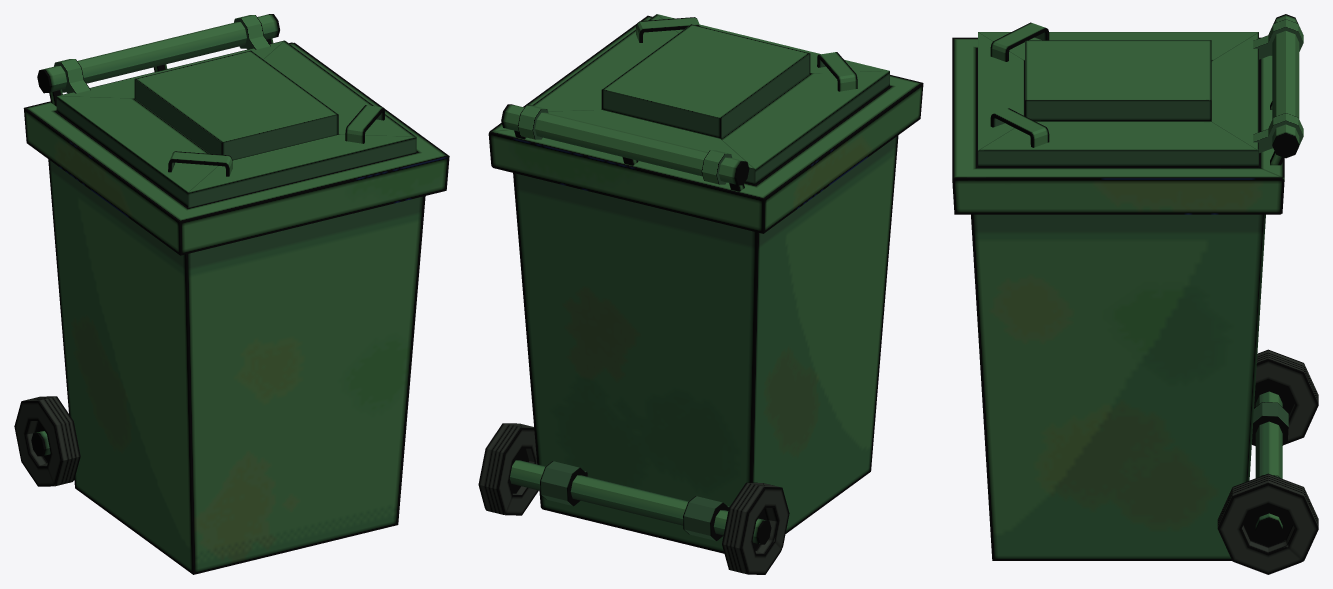
File: Prop_Contenedor.fbx
The picture shows the model from 3 angles, left to right: view 1: azimuth 30°, elevation 25°; view 2: azimuth 150°, elevation 25°; view 3: azimuth 270°, elevation 25°; orthographic projection. The views are drawn at different scales.
Visible parts, largest first — view 1: Cylinder.009, Cylinder.015; view 2: Cylinder.009, Cylinder.015; view 3: Cylinder.009, Cylinder.015.
Boxes of the visible parts, x1,y1,x2,y2 form: Cylinder.009: [14, 14, 449, 574]; Cylinder.015: [54, 15, 416, 207]; Cylinder.009: [478, 15, 923, 574]; Cylinder.015: [517, 14, 889, 184]; Cylinder.009: [952, 14, 1318, 574]; Cylinder.015: [978, 19, 1303, 167].
Bounding box in the file's own units: 0.7404 × 1.08 × 0.8163.
